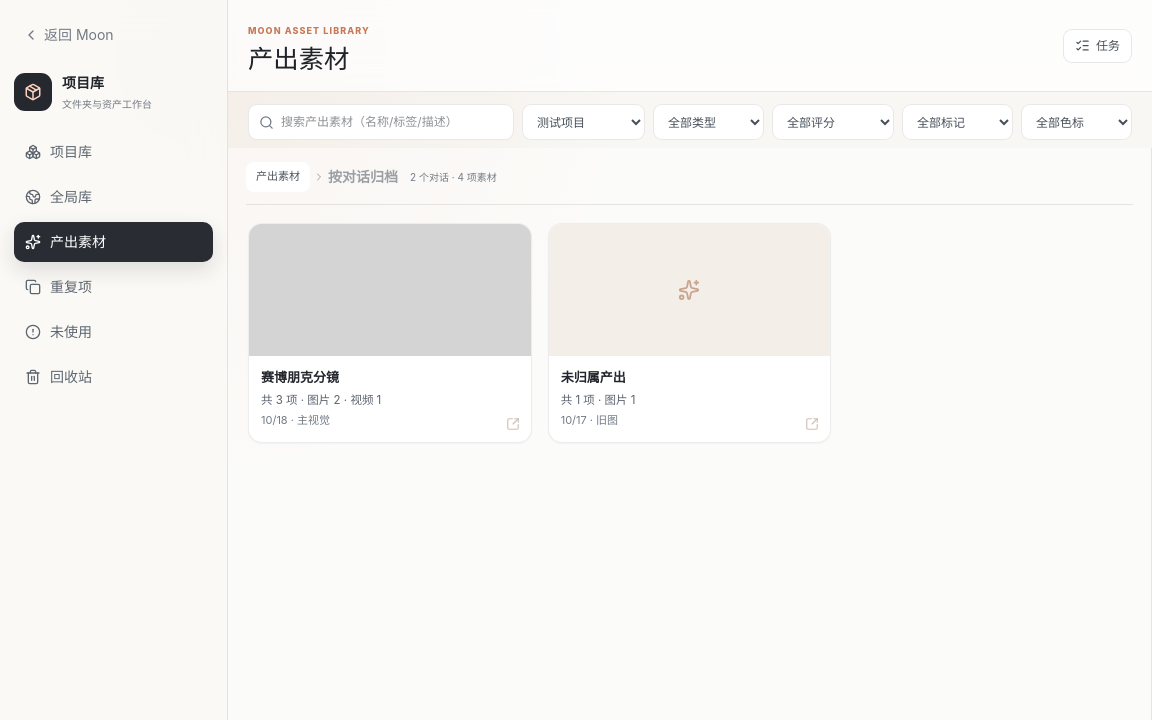
LibraryWorkspacePage › puts generated output into one folder per conversation and opens that folder
Check: the text "赛博朋克分镜" is shown, box [261,369,339,385]
Check: the text "未归属产出" is shown, box [561,369,626,385]
Click the button with aria-label "赛博朋克分镜，". click: (390, 333)
box: [248,223,532,443]
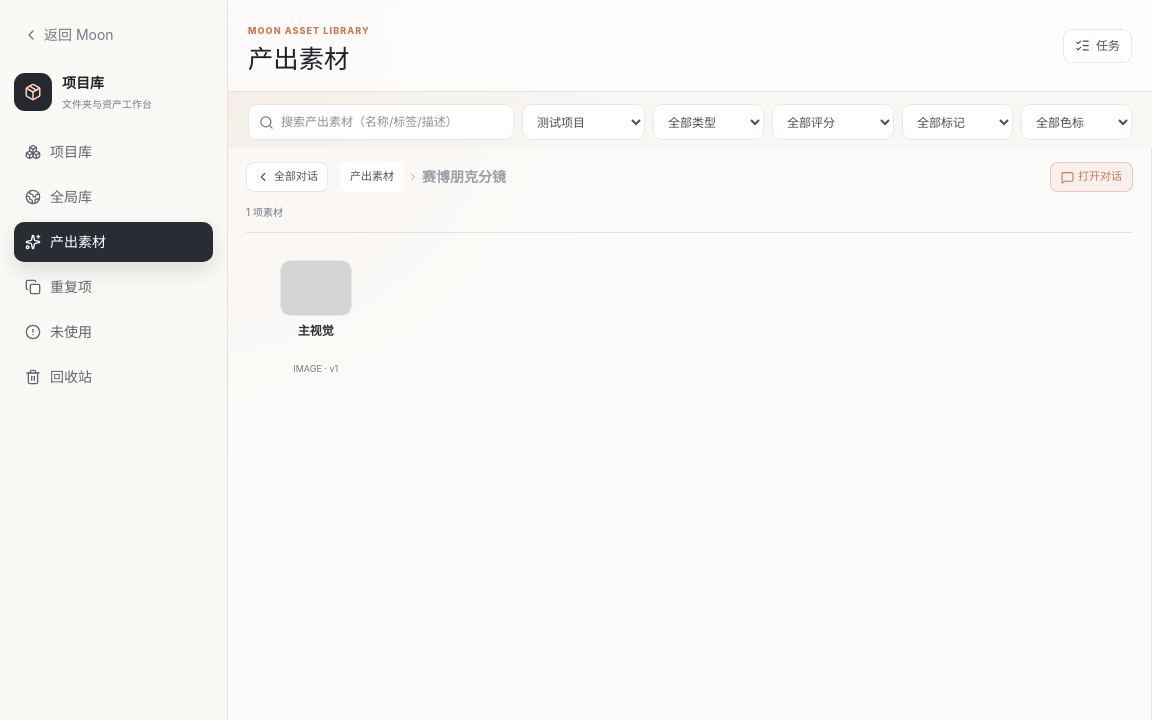
Check: the text "主视觉" is shown, box [298,323,334,338]
Check: the button "打开对话" is shown, box [1050,162,1133,192]
